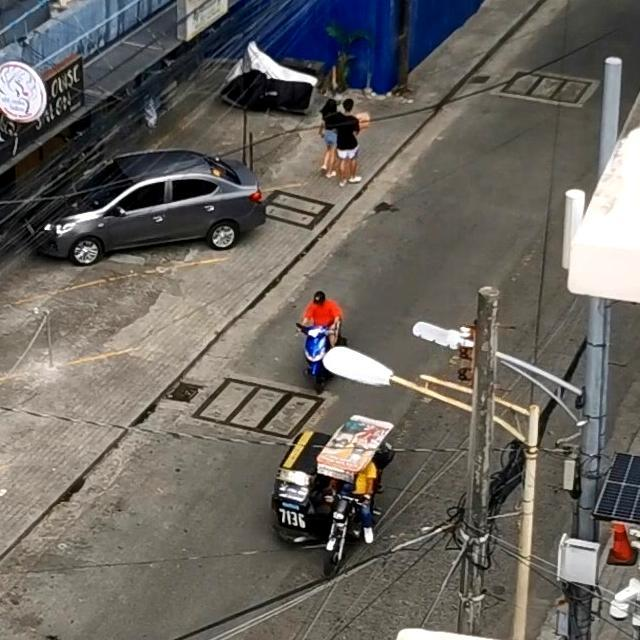Car: (30, 148, 254, 262)
